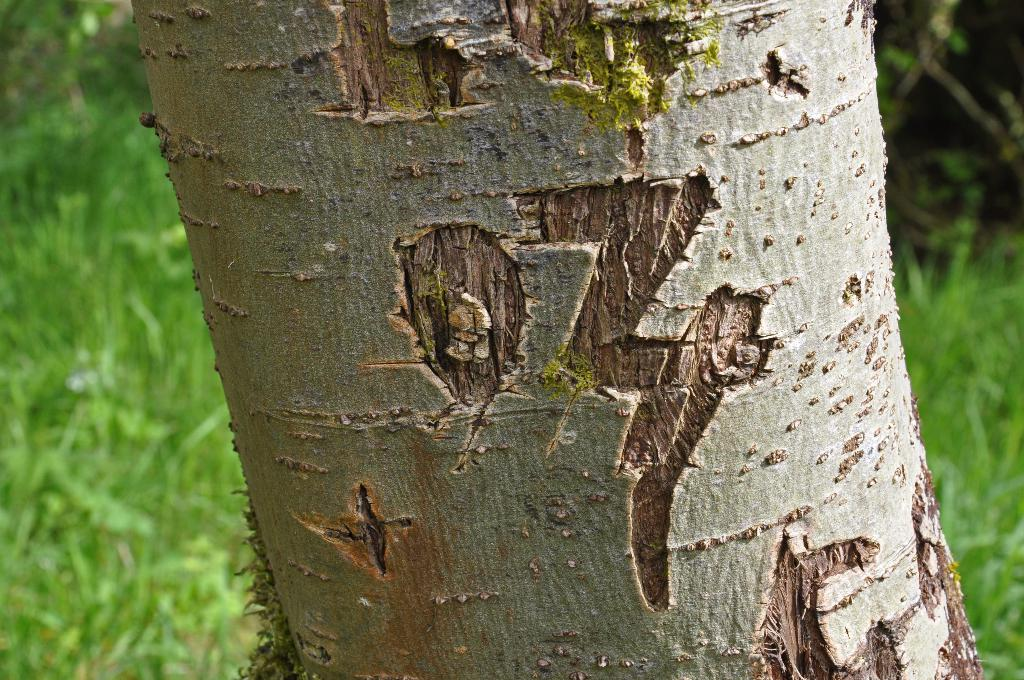Tree: (129, 0, 984, 679)
